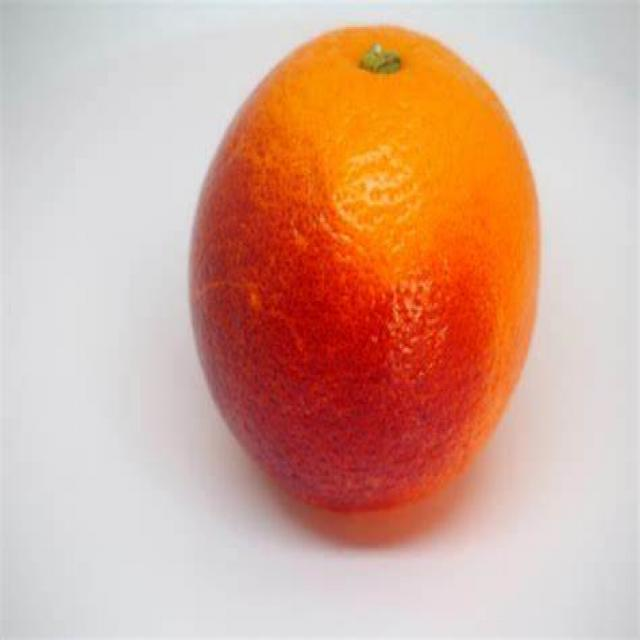Orange: (186, 22, 542, 519)
